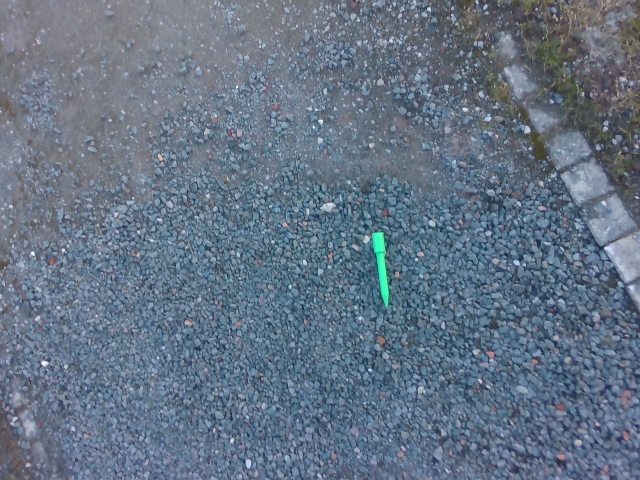Probe: (368, 227, 395, 311)
